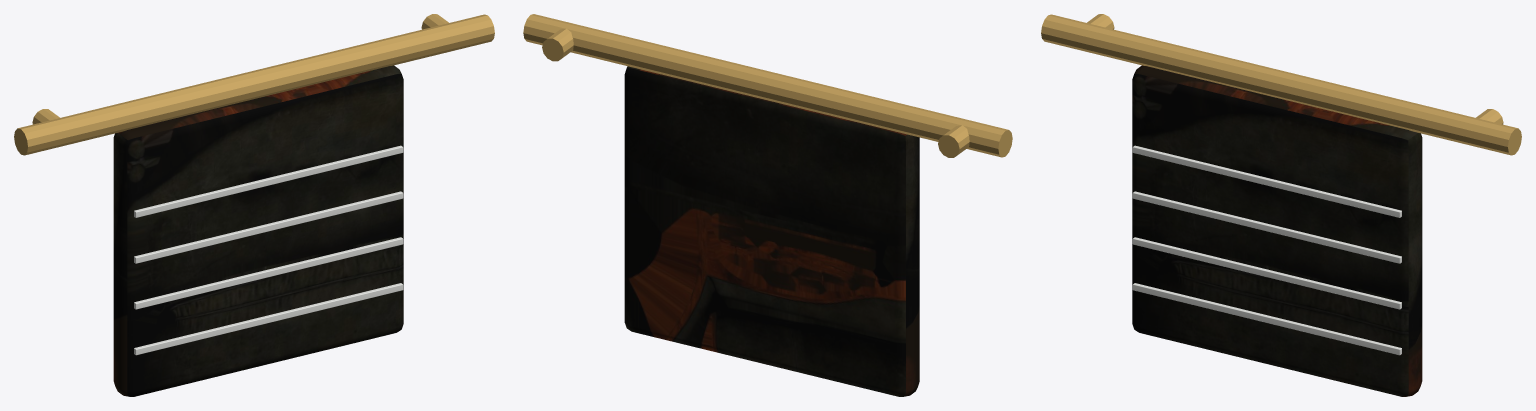
Rendered from towel_rail_gold.glb.
3 renders of one model, left to right at view 1: azimuth 30°, elevation 25°; view 2: azimuth 150°, elevation 25°; view 3: azimuth 330°, elevation 25°, orthographic.
Parts seen in each view (by area): view 1: hanging towel, rail, towel stripe.003, towel stripe, towel stripe.001, towel stripe.002; view 2: hanging towel, rail, mount.001, mount; view 3: hanging towel, rail, towel stripe.003, towel stripe, towel stripe.001, towel stripe.002.
Part boxes in pixels (bbox=[...]): hanging towel: bbox=[113, 65, 403, 396]; rail: bbox=[14, 14, 494, 155]; towel stripe.003: bbox=[134, 145, 403, 217]; towel stripe: bbox=[134, 283, 403, 355]; towel stripe.001: bbox=[134, 237, 403, 309]; towel stripe.002: bbox=[134, 191, 403, 263]; hanging towel: bbox=[624, 66, 919, 396]; rail: bbox=[523, 14, 1012, 157]; mount.001: bbox=[542, 28, 573, 61]; mount: bbox=[938, 125, 969, 157]; hanging towel: bbox=[1132, 65, 1422, 396]; rail: bbox=[1041, 14, 1521, 155]; towel stripe.003: bbox=[1132, 145, 1401, 217]; towel stripe: bbox=[1132, 283, 1401, 355]; towel stripe.001: bbox=[1132, 237, 1401, 309]; towel stripe.002: bbox=[1132, 191, 1401, 263].
Size of the model in its own units: 0.96 by 0.565 by 0.114.
3 materials, 1 textured.
